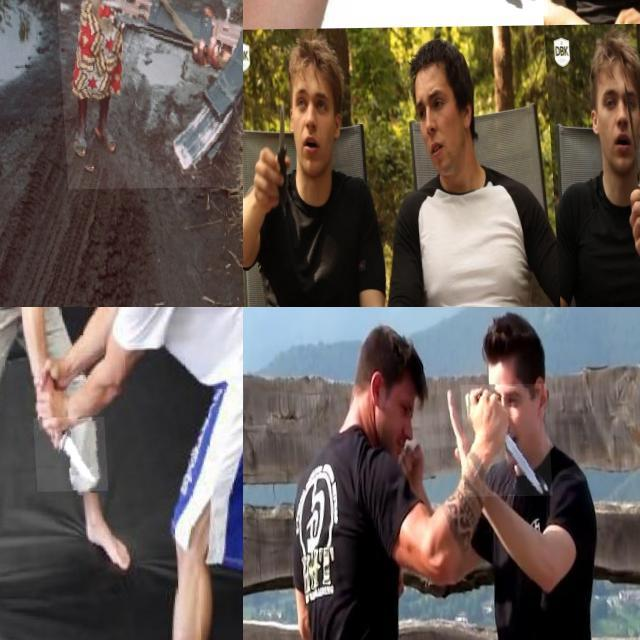-: (338, 0, 544, 130), (459, 385, 550, 498), (30, 418, 104, 494), (614, 73, 640, 267), (257, 96, 286, 206)
gun-knife-thesis - v11 Yolov5 augmented: (52, 0, 243, 189)
